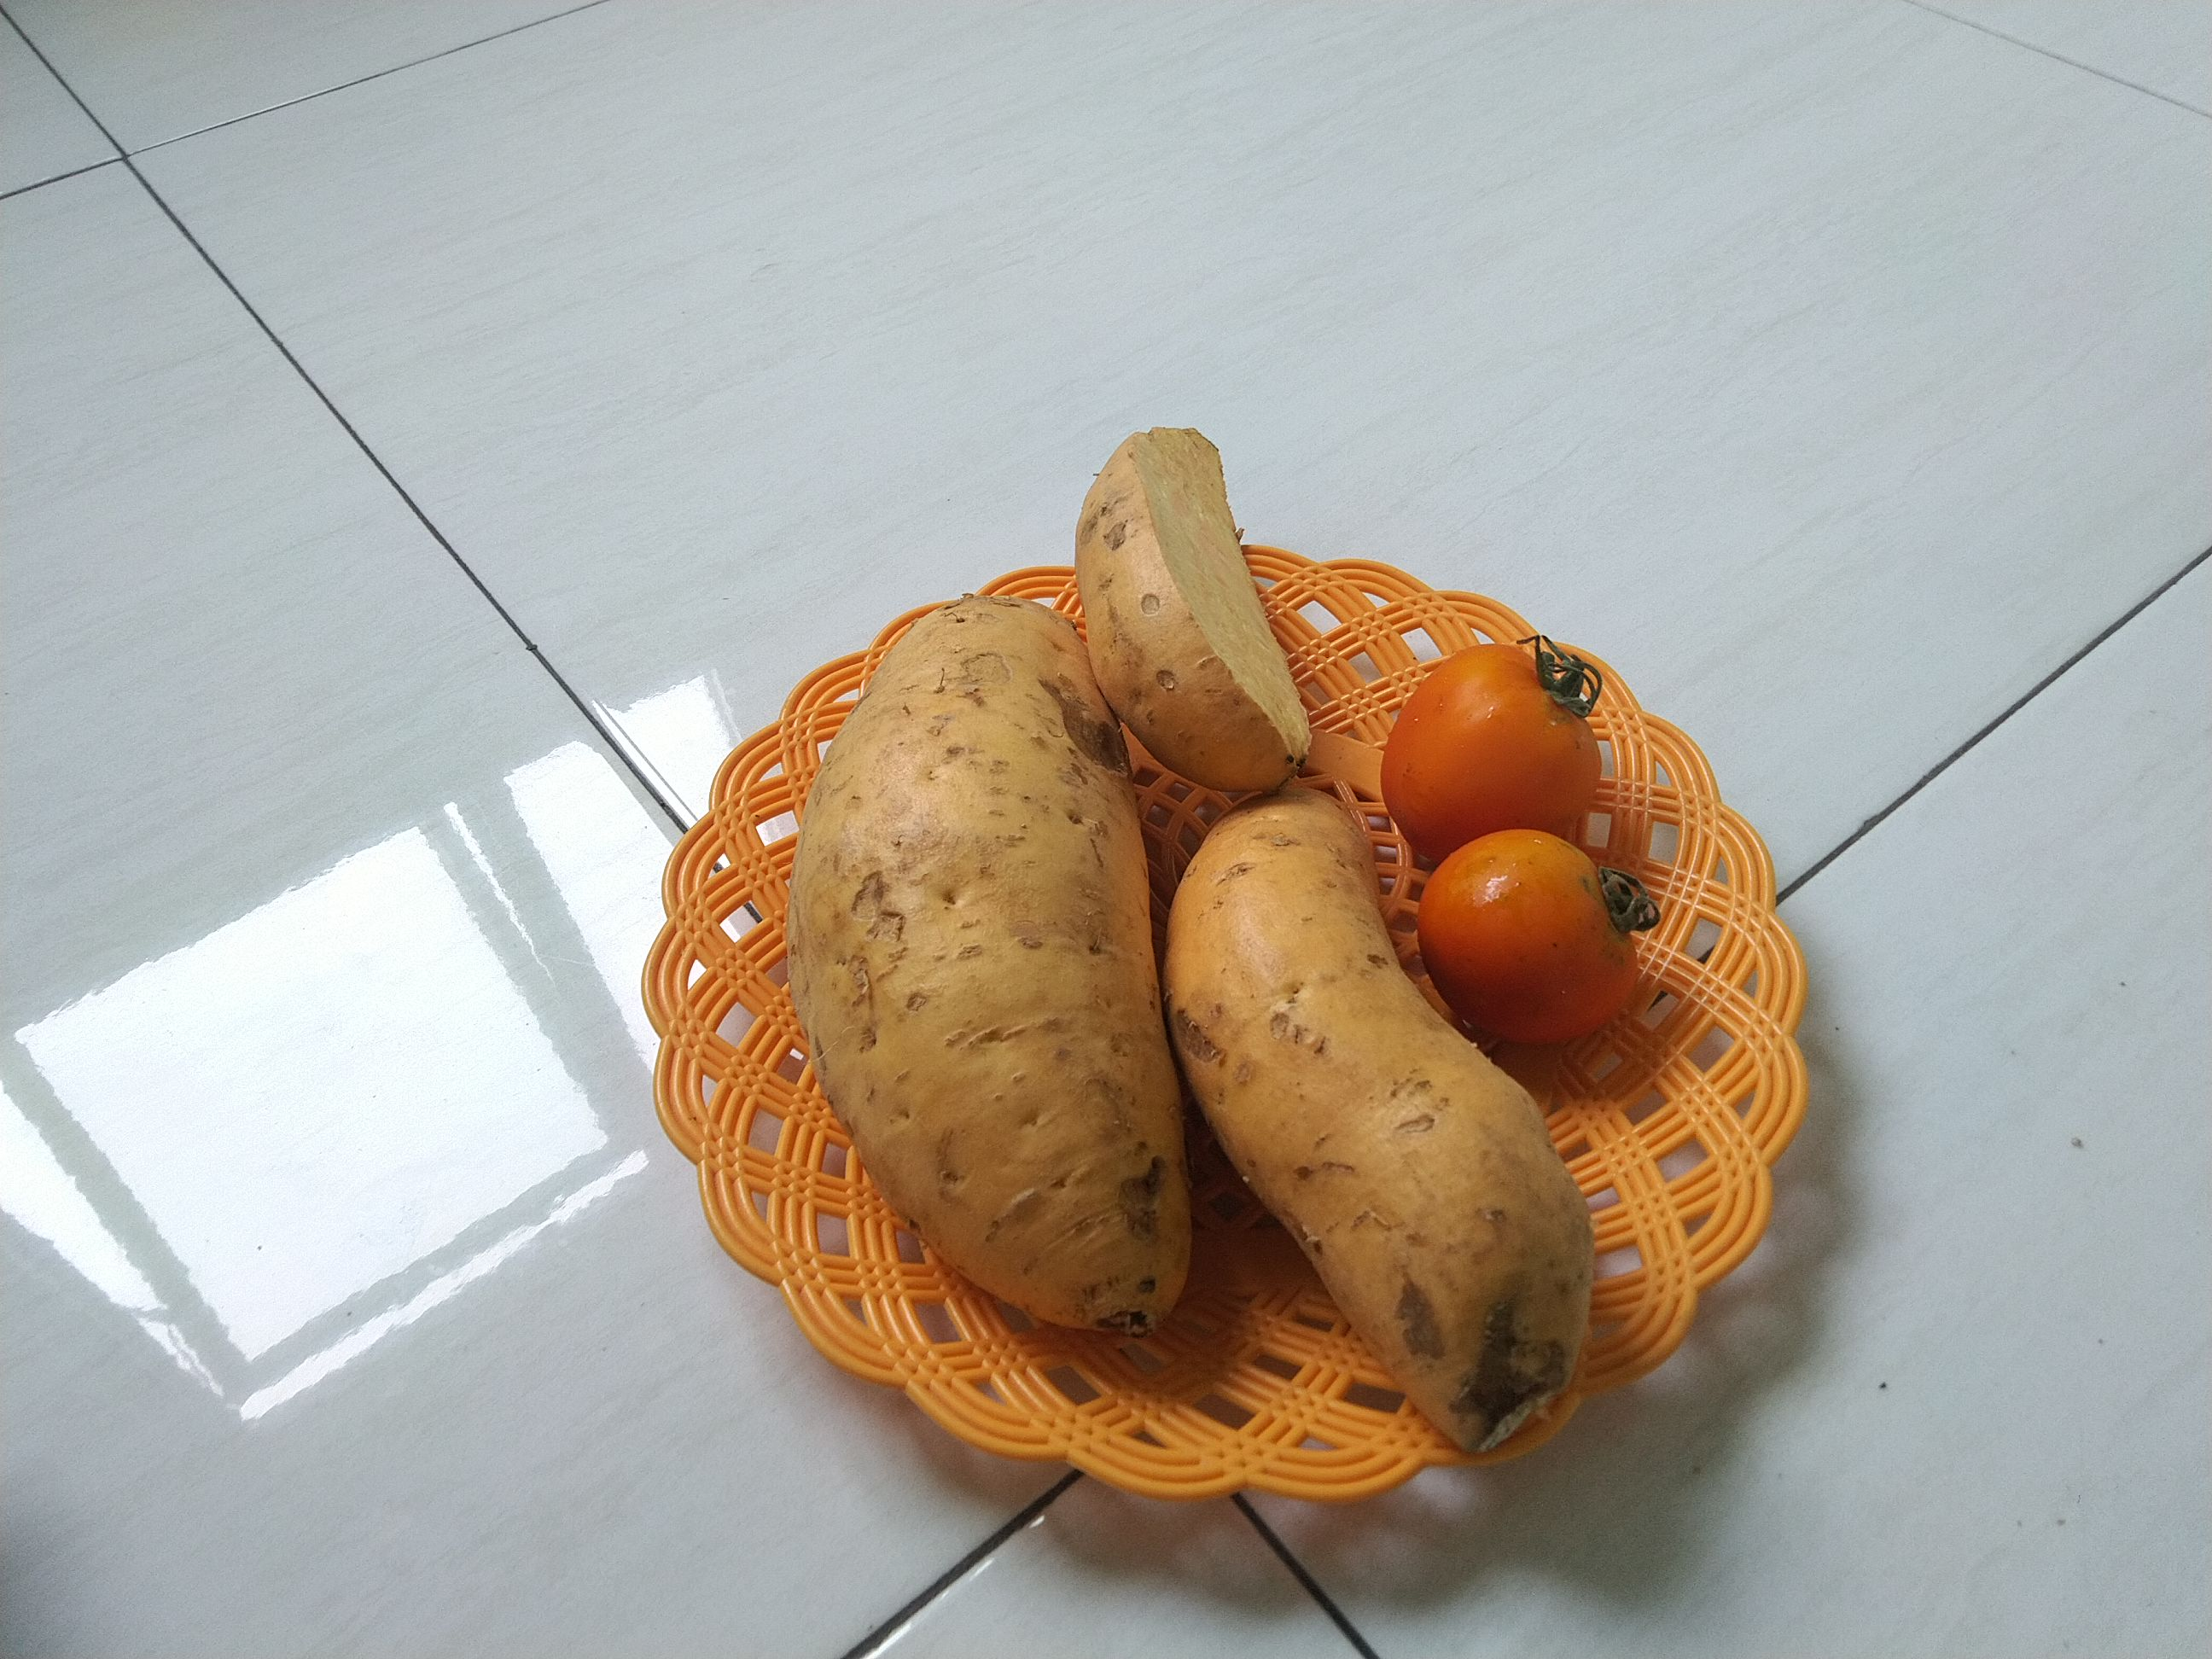ubi cilembu: (784, 594, 1202, 1345), (1172, 770, 1564, 1455), (1078, 397, 1327, 781)
